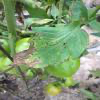Tomato leaf bacterial spot: (4, 23, 90, 67)
